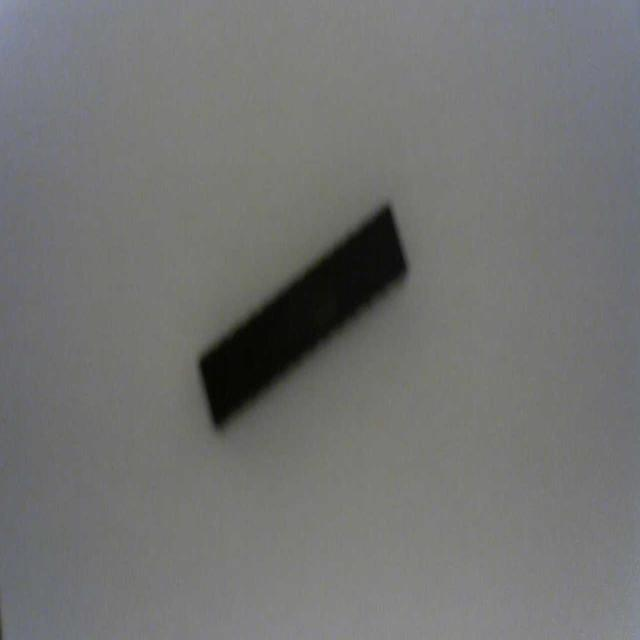atmega: (196, 197, 410, 434)
